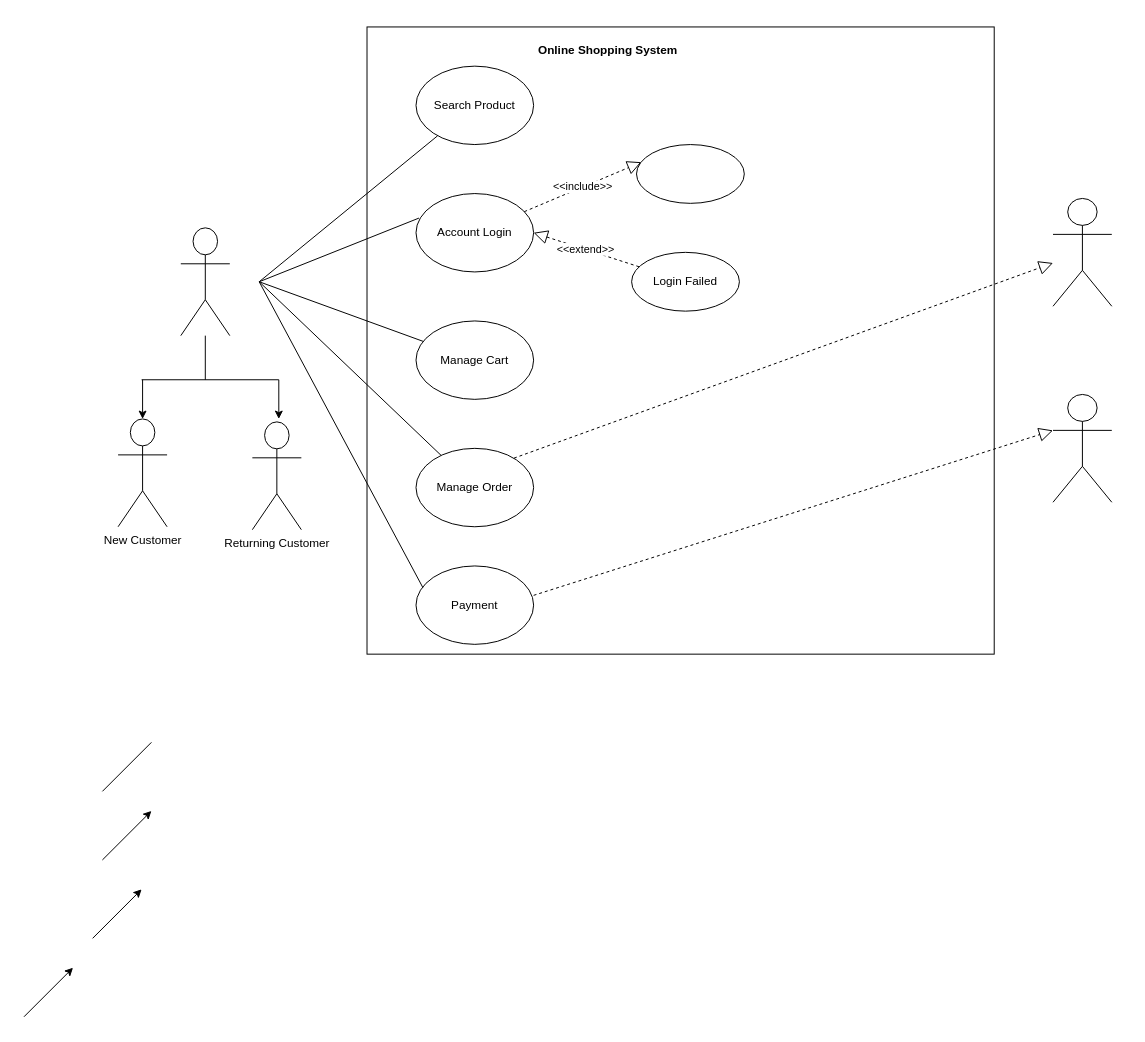
The diagram is 1145 pixels wide and 1042 high, and some of its shapes have lost their labels. Each missing label, with the centre of its shape:
"Customer" goes at (x=205, y=281).
"Delievery System" goes at (x=1082, y=251).
"Login Sucessful" goes at (x=690, y=173).
"Payment System" goes at (x=1082, y=447).
